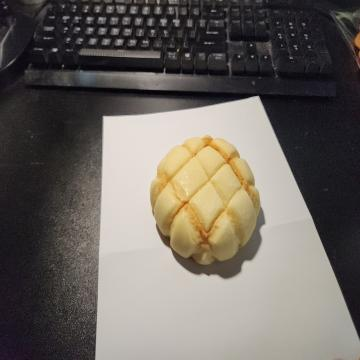melon_bread: (150, 135, 259, 267)
